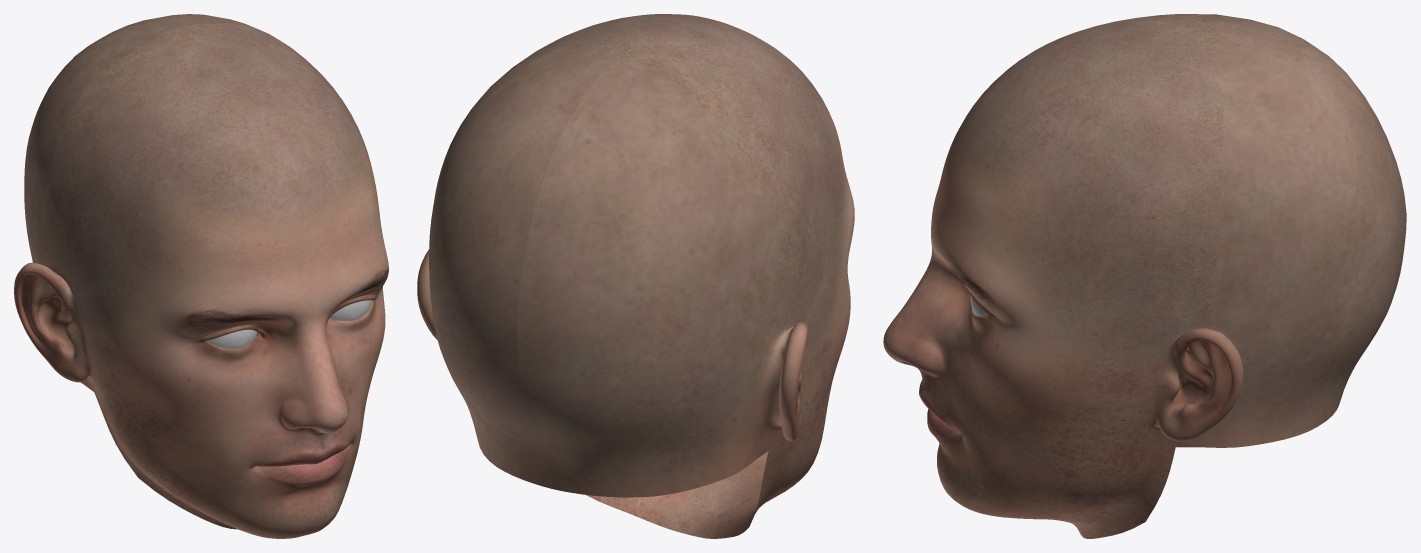
File: Male.obj
The picture shows the model from 3 angles, left to right: view 1: azimuth 30°, elevation 25°; view 2: azimuth 150°, elevation 25°; view 3: azimuth 270°, elevation 25°; orthographic projection. The views are drawn at different scales.
Visible parts, largest first — view 1: Male; view 2: Male; view 3: Male.
Part boxes in pixels (x1,y1,x2,y2): Male: (14,14,388,538); Male: (417,14,854,538); Male: (883,14,1406,538).
Size of the model in its own units: 17.95 by 23.97 by 22.68.
